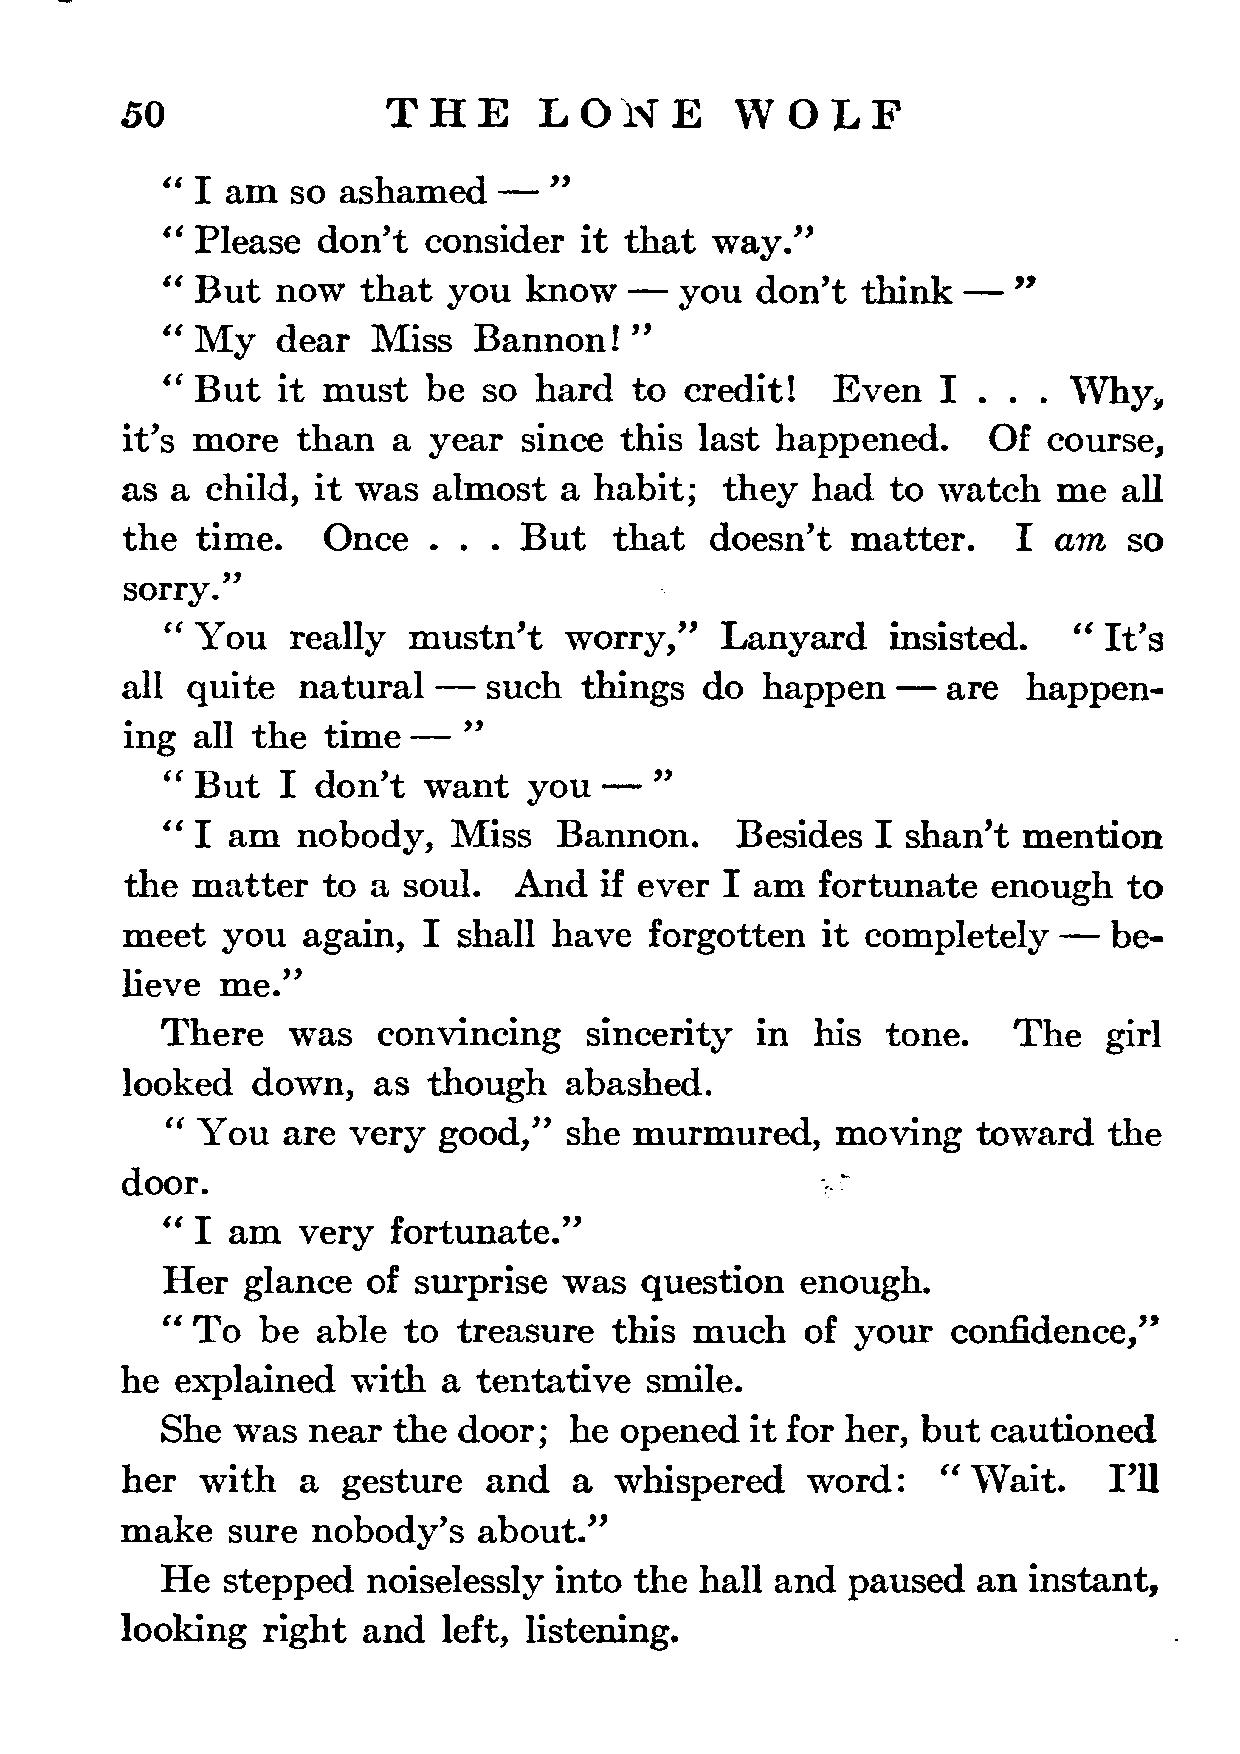content: (117, 166, 1168, 1653)
content_chapter: (378, 93, 905, 136)
content_pagenumber: (117, 86, 169, 132)
